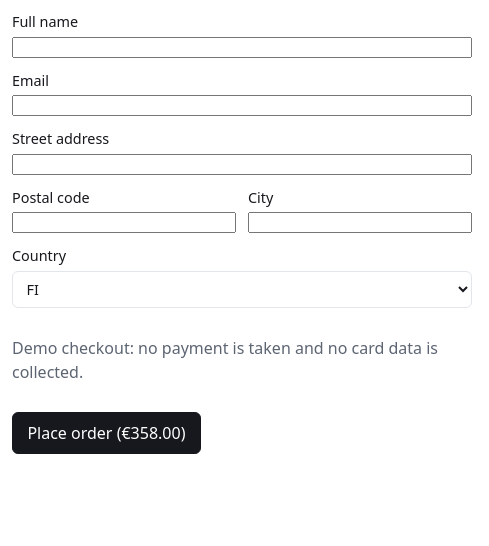
Test case: CheckoutForm › shows field errors from the server and keeps the typed values
The width and height of the screenshot is (489, 546).
Click the button "Place order (€358.00)" at (106, 433), box x1=12 y1=412 x2=201 y2=454
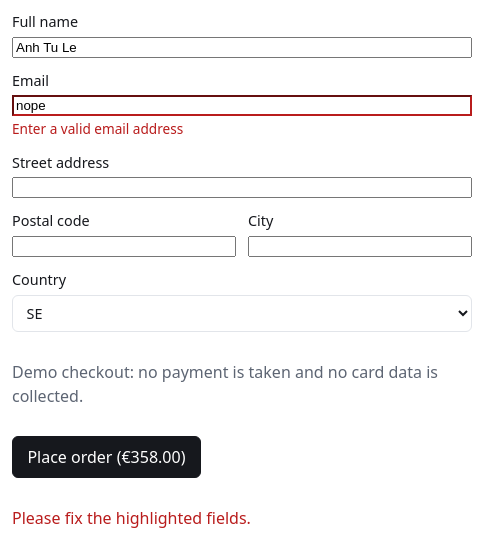
Now the text "Enter a valid email address" is shown, box x1=12 y1=119 x2=183 y2=138
Now the text "Please fix the highlighted fields." is shown, box x1=12 y1=507 x2=251 y2=529
Now the field labelled "Full name" holds "Anh Tu Le", box x1=12 y1=37 x2=472 y2=58
